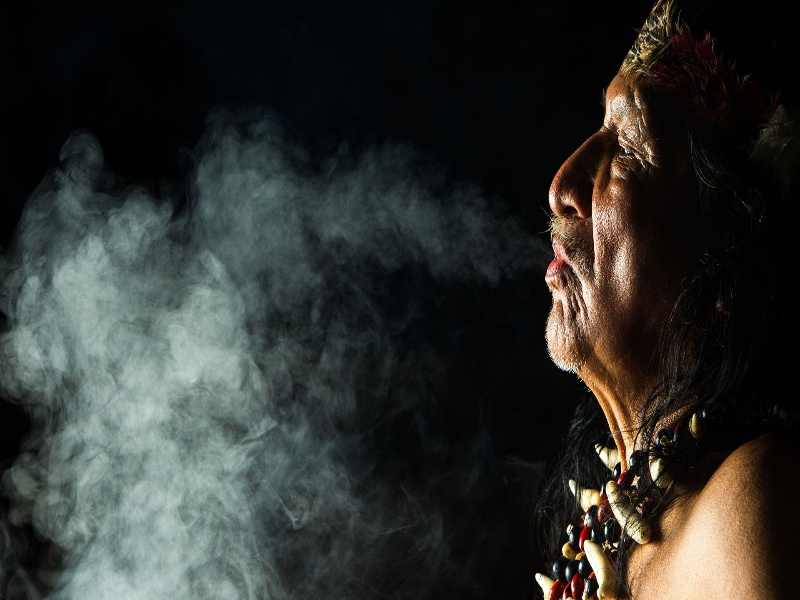smoke: (1, 120, 446, 590)
